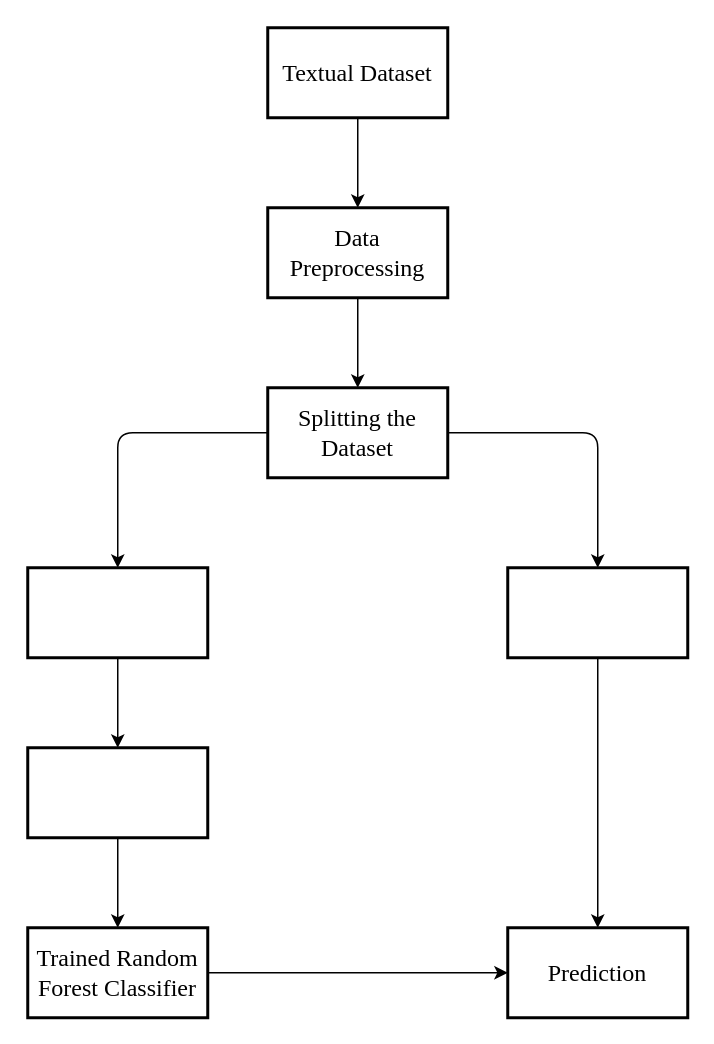
Image size: 714x1044. Some labels were removed from this diagram. Each missing label, with the box of its shape:
Testing Dataset: (506, 566, 688, 658)
Training Dataset: (26, 566, 208, 658)
Training the Random Forest Classifier: (26, 746, 208, 838)
